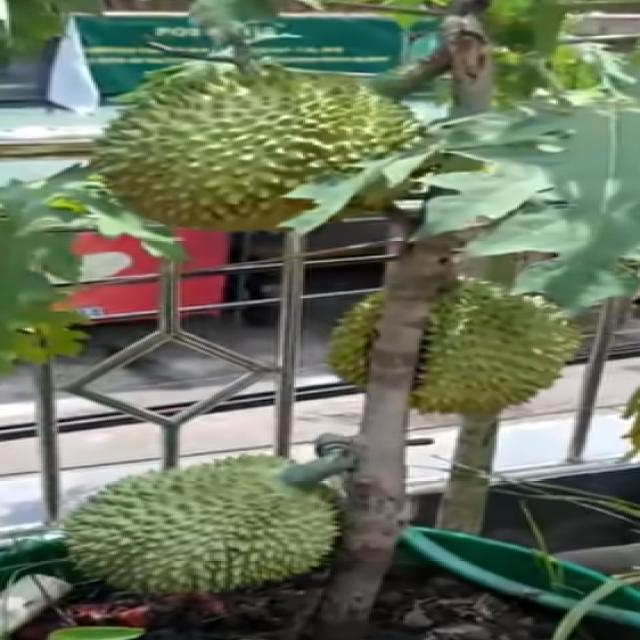immature: (101, 60, 431, 237), (59, 451, 351, 588), (332, 265, 584, 417)
